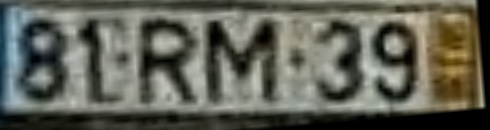1: (72, 17, 108, 110)
3: (306, 17, 368, 109)
8: (11, 15, 74, 110)
9: (367, 19, 424, 110)
M: (202, 17, 285, 109)
R: (133, 17, 203, 109)
